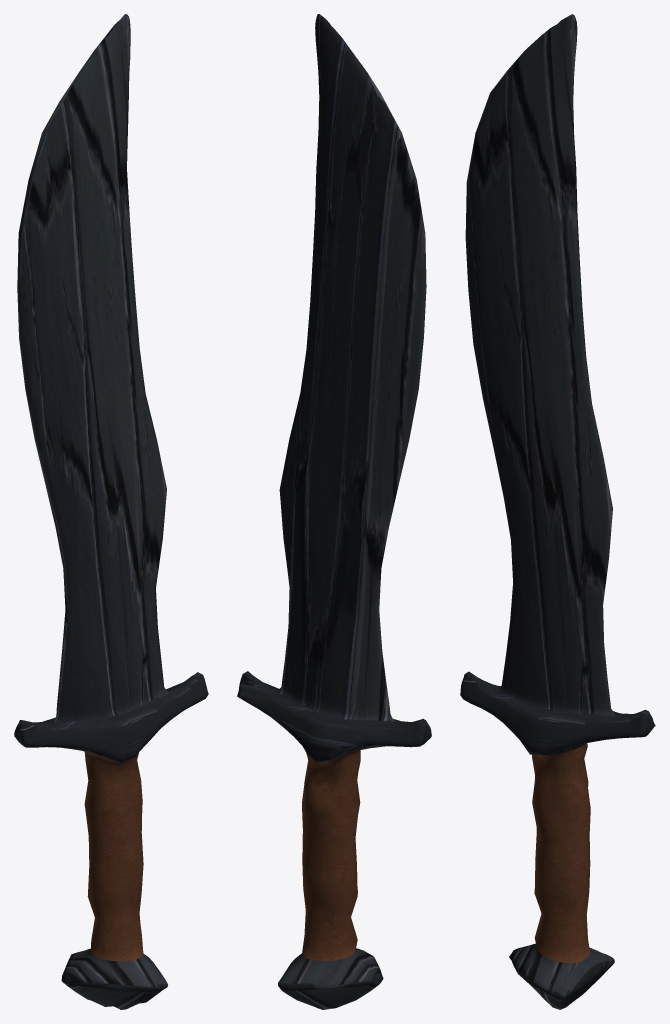
File: Obsidian_Scim_T1.fbx
The picture shows the model from 3 angles, left to right: view 1: azimuth 30°, elevation 25°; view 2: azimuth 150°, elevation 25°; view 3: azimuth 330°, elevation 25°; orthographic projection.
Visible parts, largest first — view 1: Mesh0; view 2: Mesh0; view 3: Mesh0.
Boxes of the visible parts, box(x1,y1,x2,y2) form: Mesh0: box(14, 14, 208, 1009); Mesh0: box(237, 14, 431, 1009); Mesh0: box(460, 14, 655, 1009).
Bounding box in the file's own units: 45.03 × 231 × 22.18.
